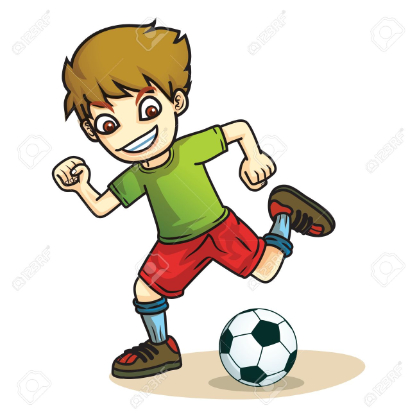ball: (217, 305, 301, 389)
